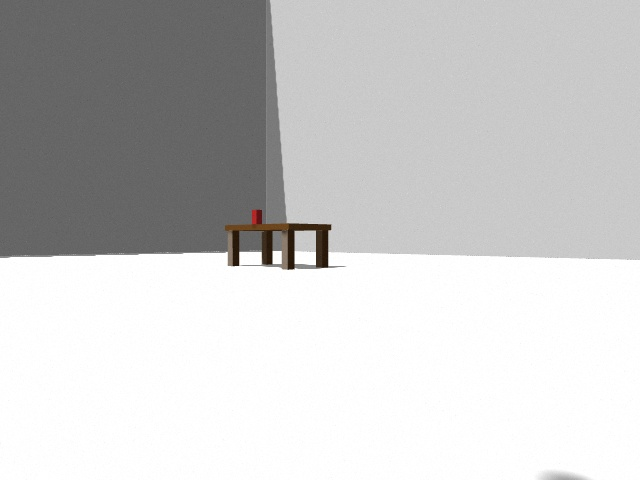red_cube: (252, 210, 257, 225)
